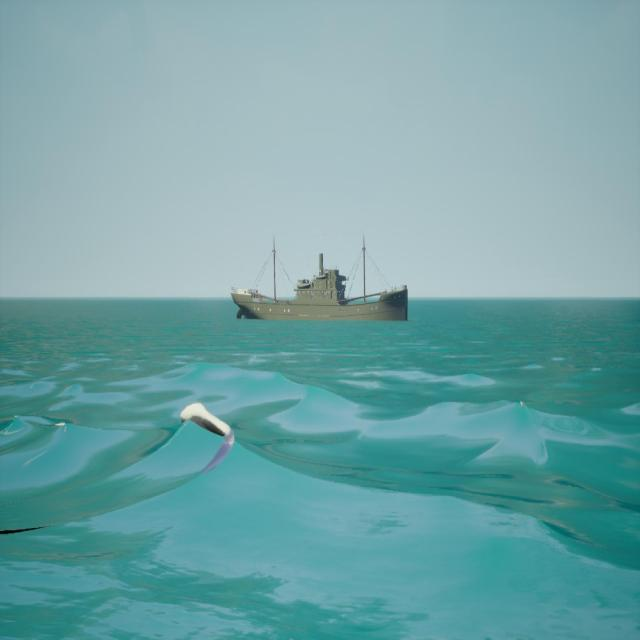fishing ship: (230, 235, 411, 323)
